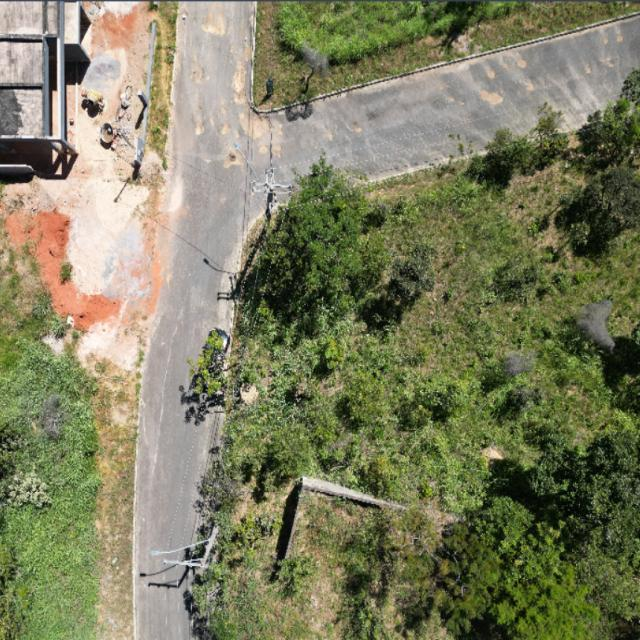crack: (230, 3, 255, 104), (201, 3, 237, 35), (242, 113, 271, 143), (223, 148, 244, 166), (190, 51, 201, 78), (218, 117, 231, 135), (270, 142, 282, 160), (329, 124, 339, 144), (191, 115, 202, 131), (354, 119, 363, 131)
old_road: (132, 3, 639, 639)
